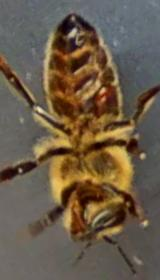varroa_mite: (89, 78, 123, 114)
